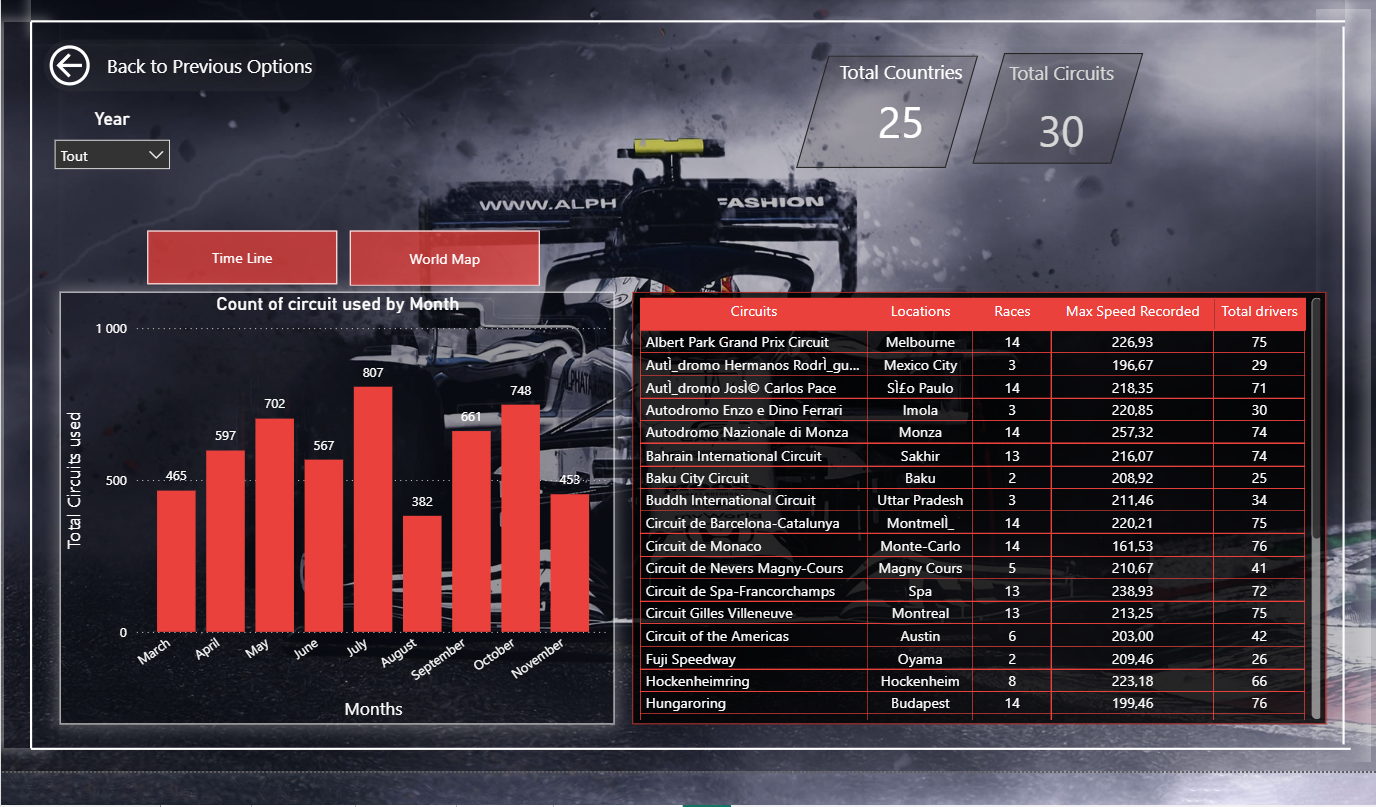

What the dashboard file says about the page in this screenshot:
{"tool":"powerbi","page":{"name":"Circuits","canvas":[1280,720],"ordinal":2},"visuals":[{"type":"shape","box":[27.6,0,1222.4,43.4],"z":0},{"type":"shape","box":[27.6,676.3,1227.6,43.4],"z":1000},{"type":"shape","box":[2.6,22.4,51.3,676.3],"z":2000},{"type":"shape","box":[1223.7,10.5,51.3,700],"z":3000},{"type":"actionButton","box":[39.5,38.2,253.9,48.7],"z":5000},{"type":"slicer","title":"Year","fields":{"Values":["aly6060 fact_result.aly6060.dim_race.date.Variation.Date Hierarchy.Year"]},"box":[39.5,102.6,127.6,73.7],"z":6000},{"type":"columnChart","title":"Count of circuit used by Month","fields":{"Category":["aly6060 fact_result.aly6060.dim_race.date.Variation.Date Hierarchy.Month"],"Y":["CountNonNull(aly6060 fact_result.circuitId)"]},"box":[54.2,273.7,515.9,402.4],"z":7000},{"type":"shape","title":"Time Line","box":[135.5,216.6,176.8,50.1],"z":9000},{"type":"shape","title":"B2","box":[324.1,216.6,176.8,51.6],"z":10000},{"type":"shape","box":[739.6,53,169.4,104.6],"z":11000},{"type":"card","title":"Total Circuits","fields":{"Values":["aly6060 fact_result.Total_circuits"]},"box":[927.3,57.6,119.7,107.6],"z":12000},{"type":"card","title":"Total Countries","fields":{"Values":["aly6060 fact_result.Total countries"]},"box":[770.5,57.5,132.6,92.8],"z":13000},{"type":"shape","box":[903,51.5,159.1,103],"z":14000},{"type":"tableEx","fields":{"Values":["aly6060 fact_result.aly6060.dim_circuits.name","aly6060 fact_result.aly6060.dim_circuits.location","aly6060 fact_result.No_of_Races","Max(aly6060 fact_result.fastestLapSpeed)","aly6060 fact_result.Total_Drivers"]},"box":[586.8,273.8,645.4,402.2],"z":15000}]}

Visuals, with their boxes on the page's 1280x720 design canvas (x1, y1, x2, y2). These are canvas units, not pixel positions in the 1376x807 screenshot, which may show the page scaled, cropped or inside an application window:
shape: crop(28, 0, 1250, 43)
shape: crop(28, 676, 1255, 720)
shape: crop(3, 22, 54, 699)
shape: crop(1224, 10, 1275, 710)
actionButton: crop(40, 38, 293, 87)
"Year" slicer: crop(40, 103, 167, 176)
"Count of circuit used by Month" columnChart: crop(54, 274, 570, 676)
"Time Line" shape: crop(136, 217, 312, 267)
"B2" shape: crop(324, 217, 501, 268)
shape: crop(740, 53, 909, 158)
"Total Circuits" card: crop(927, 58, 1047, 165)
"Total Countries" card: crop(770, 58, 903, 150)
shape: crop(903, 52, 1062, 154)
tableEx - aly6060 fact_result.aly6060.dim_circuits.name x aly6060 fact_result.aly6060.dim_circuits.location: crop(587, 274, 1232, 676)
